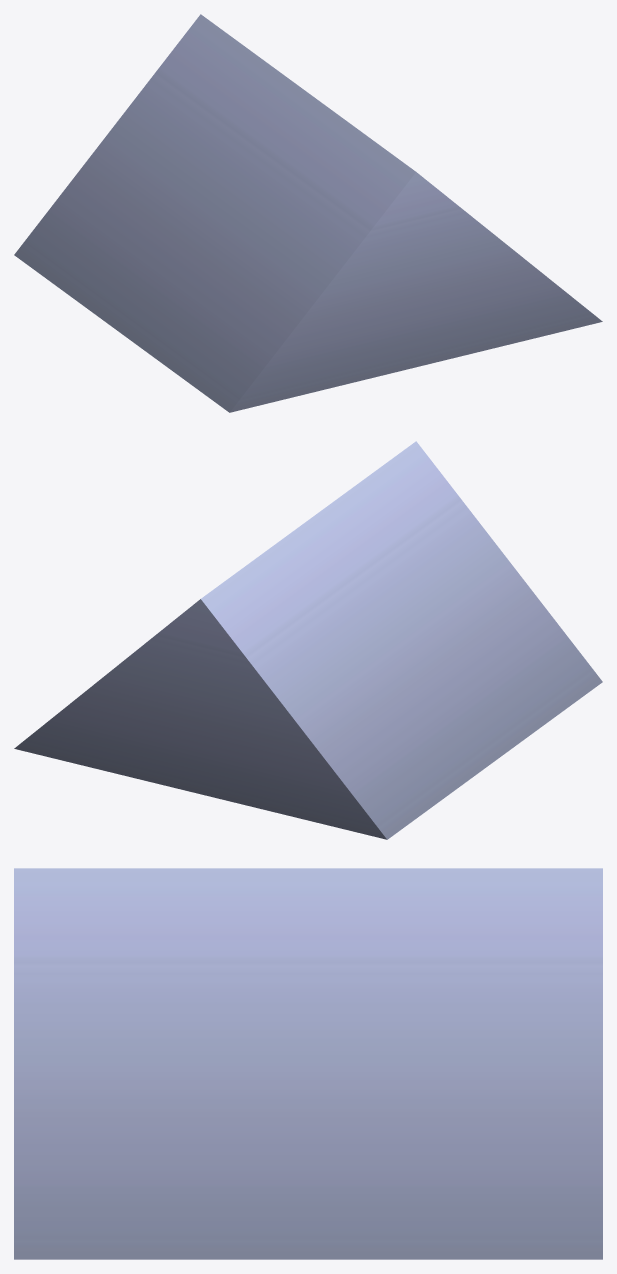
The model's file is kenney-prototype-shape-triangular-prism-low.glb.
3 views of the same model, one above another, from view 1: azimuth 30°, elevation 25°; view 2: azimuth 150°, elevation 25°; view 3: azimuth 270°, elevation 25° (orthographic). The views are drawn at different scales.
Visible parts, largest first — view 1: shape-triangular-prism-low; view 2: shape-triangular-prism-low; view 3: shape-triangular-prism-low.
Part boxes in pixels (x1,y1,x2,y2): shape-triangular-prism-low: (14, 14, 602, 412); shape-triangular-prism-low: (14, 441, 602, 839); shape-triangular-prism-low: (14, 868, 602, 1259).
Size of the model in its own units: 1 by 0.5001 by 1.
Materials: 1 (1 with a texture image).
